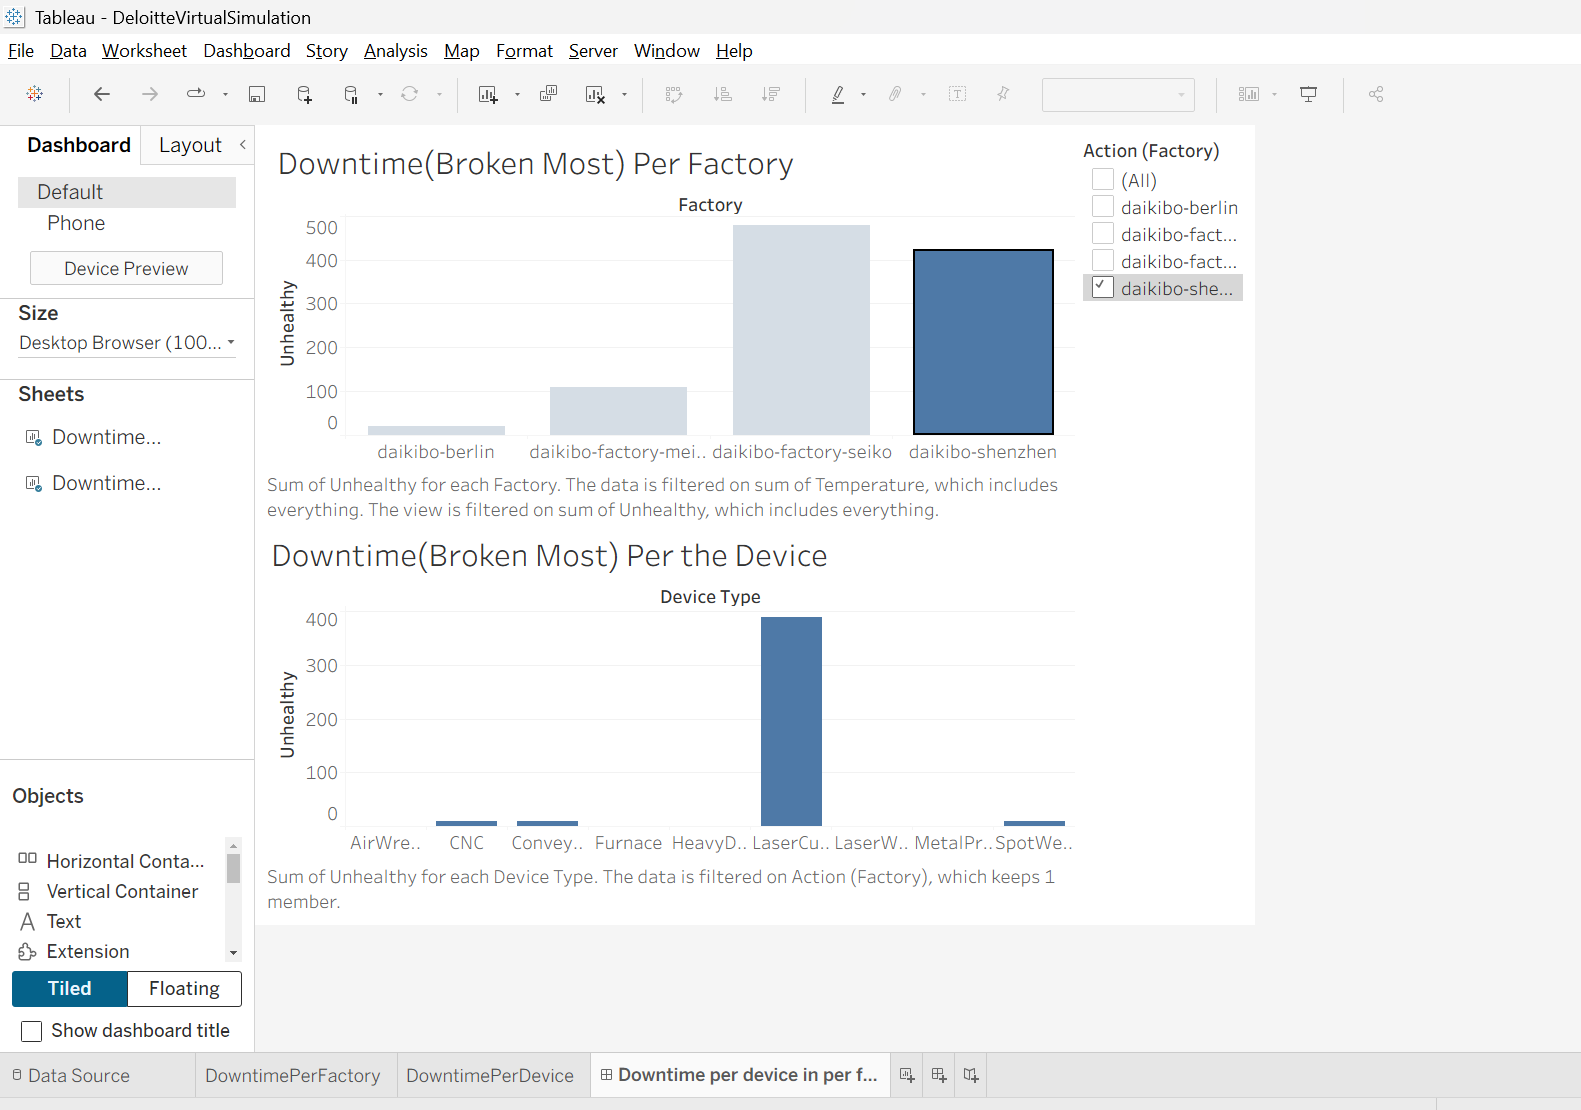

The page's visual inventory and layout, read from the dashboard file:
{"tool":"tableau","page":{"name":"Downtime per device in per factory","canvas":[1000,800],"ordinal":0},"visuals":[{"type":"worksheet","title":"DowntimePerFactory","mark":"Automatic","rows":["Calculation_1152043715231746"],"cols":["factory"],"box":[8,8,816,392]},{"type":"filter","title":"DowntimePerDevice","param":"[federated.0c1yvur0m7p0891dck87e1v06ily].[Action (Factory)]","box":[824,8,168,784]},{"type":"worksheet","title":"DowntimePerDevice","mark":"Automatic","rows":["Calculation_1152043715231746"],"cols":["deviceType"],"box":[8,400,816,392]}]}

Visuals, with their boxes on the page's 1000x800 design canvas (x1, y1, x2, y2). These are canvas units, not pixel positions in the 1581x1110 screenshot, which may show the page scaled, cropped or inside an application window:
"DowntimePerFactory" worksheet: rect(8, 8, 824, 400)
"DowntimePerDevice" filter: rect(824, 8, 992, 792)
"DowntimePerDevice" worksheet: rect(8, 400, 824, 792)
